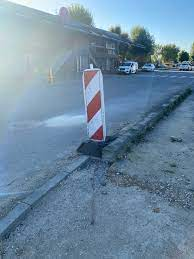obstacle: (79, 63, 115, 160)
